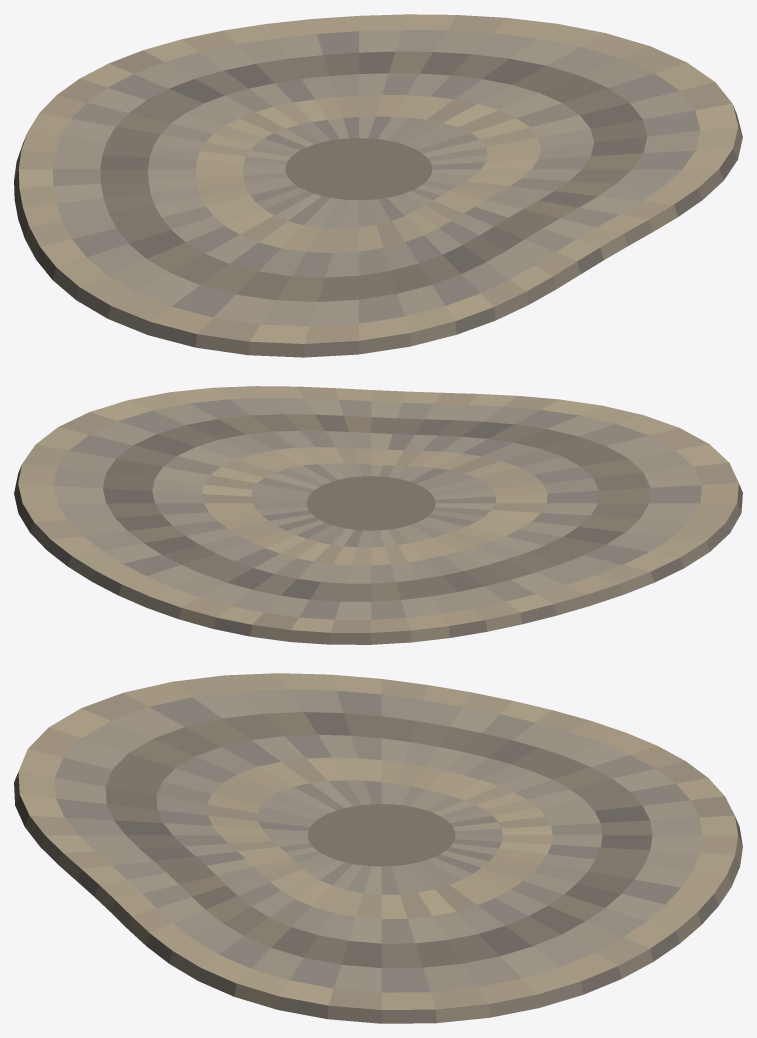
Rendered from plaza_paving.glb.
The picture shows the model from 3 angles, top to bottom: view 1: azimuth 30°, elevation 25°; view 2: azimuth 150°, elevation 25°; view 3: azimuth 270°, elevation 25°; orthographic projection. The views are drawn at different scales.
Parts seen in each view (by area): view 1: plaza_paving; view 2: plaza_paving; view 3: plaza_paving.
Boxes of the visible parts, x1,y1,x2,y2 form: plaza_paving: (14, 14, 742, 357); plaza_paving: (14, 386, 742, 644); plaza_paving: (14, 673, 742, 1023).
Size of the model in its own units: 101 by 1.6 by 90.82.
Materials: 1 (1 with a texture image).
